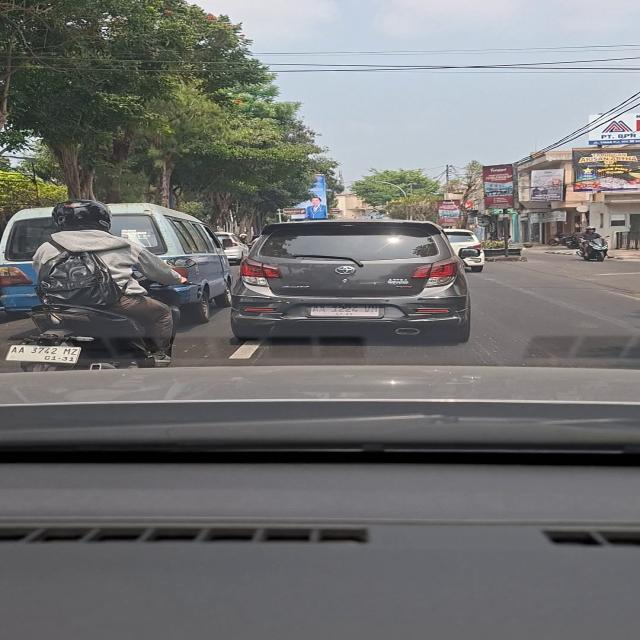WithHelmet: (31, 199, 188, 367), (577, 226, 615, 259), (237, 233, 252, 251)
